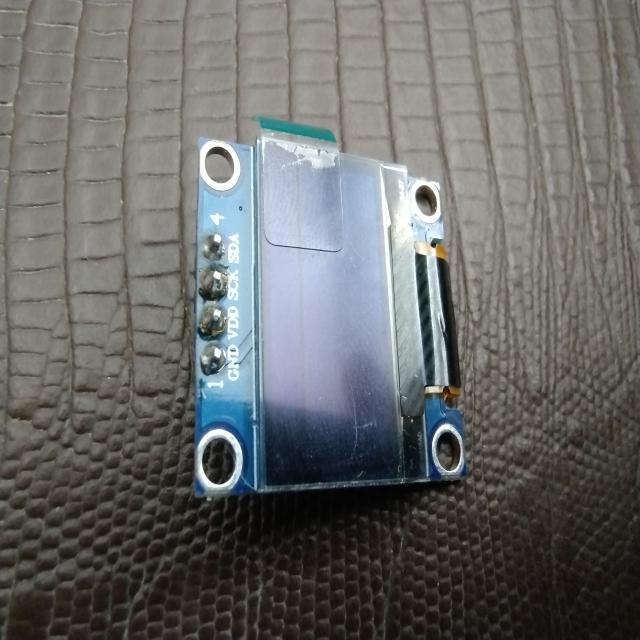oled: (194, 106, 480, 503)
